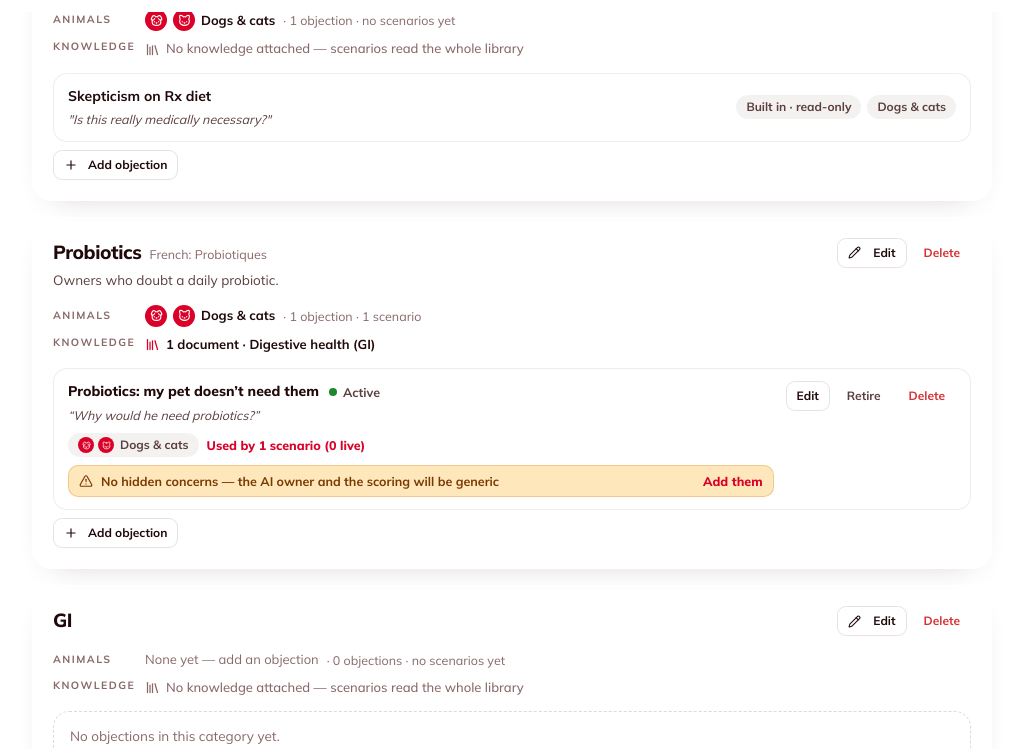
it: CategoriesScreen › won’t delete a category objections still live in — it names them
The image size is (1024, 749).
(page scrolled)
Click the button with aria-label "Delete the category “Probiotics”" at (942, 252), box [912, 238, 971, 268]
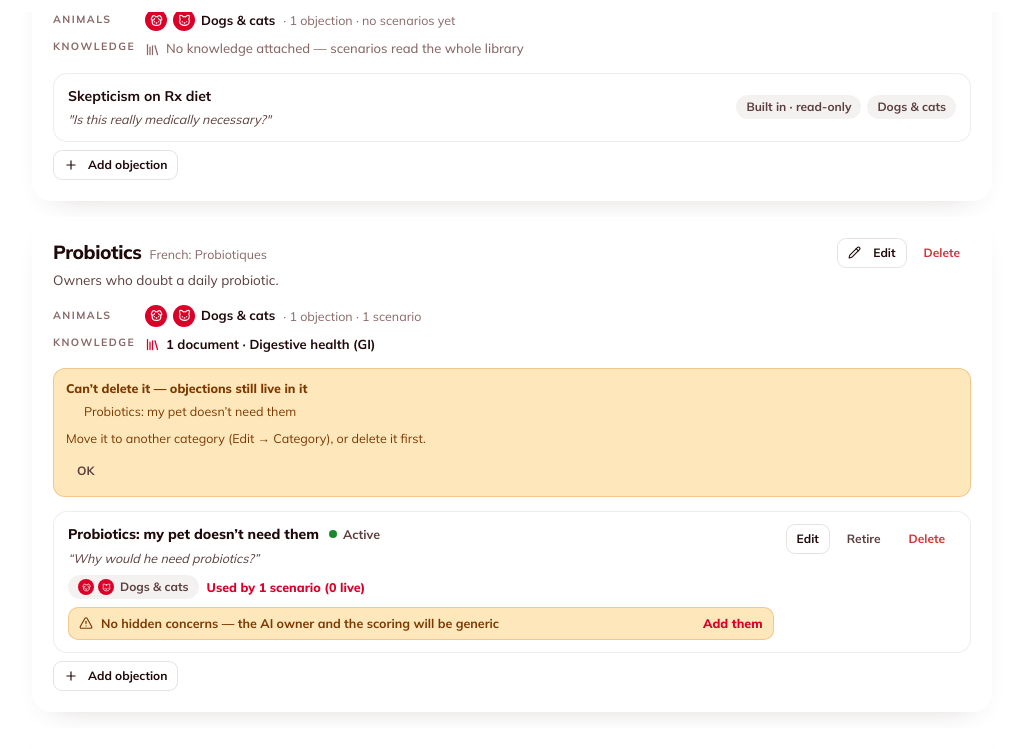
Check: the list item "Probiotics: my pet doesn’t need them" is shown, box [84, 403, 296, 419]
